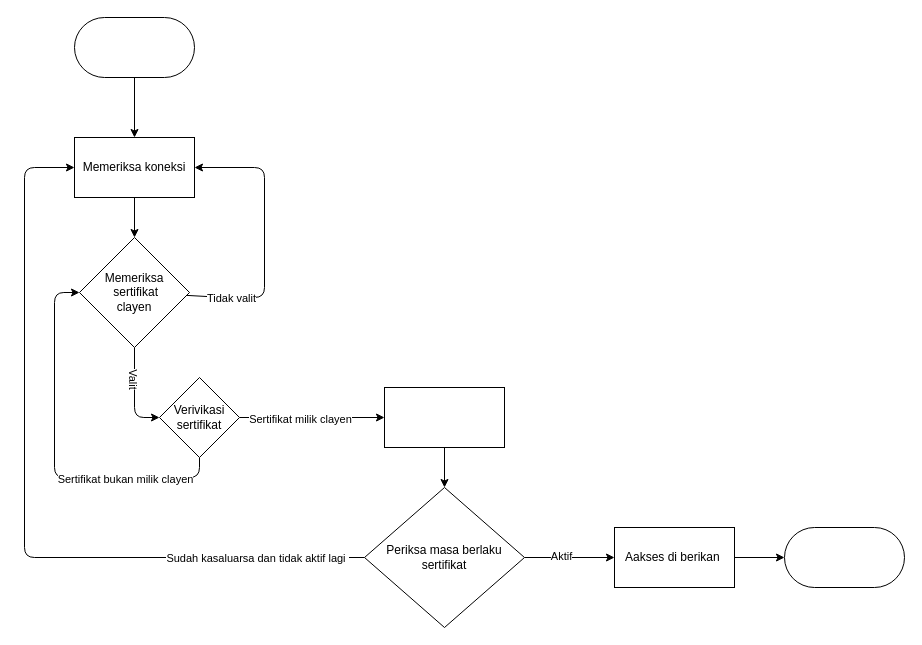
Some shapes in this 922 by 645 pixel diagram are drawn without their labels. Each missing label, with the centre of its shape:
"Mulai" belongs at (x=134, y=47).
"Selesai" belongs at (x=844, y=557).
"Sertifikat terverifikasi" belongs at (x=444, y=417).
